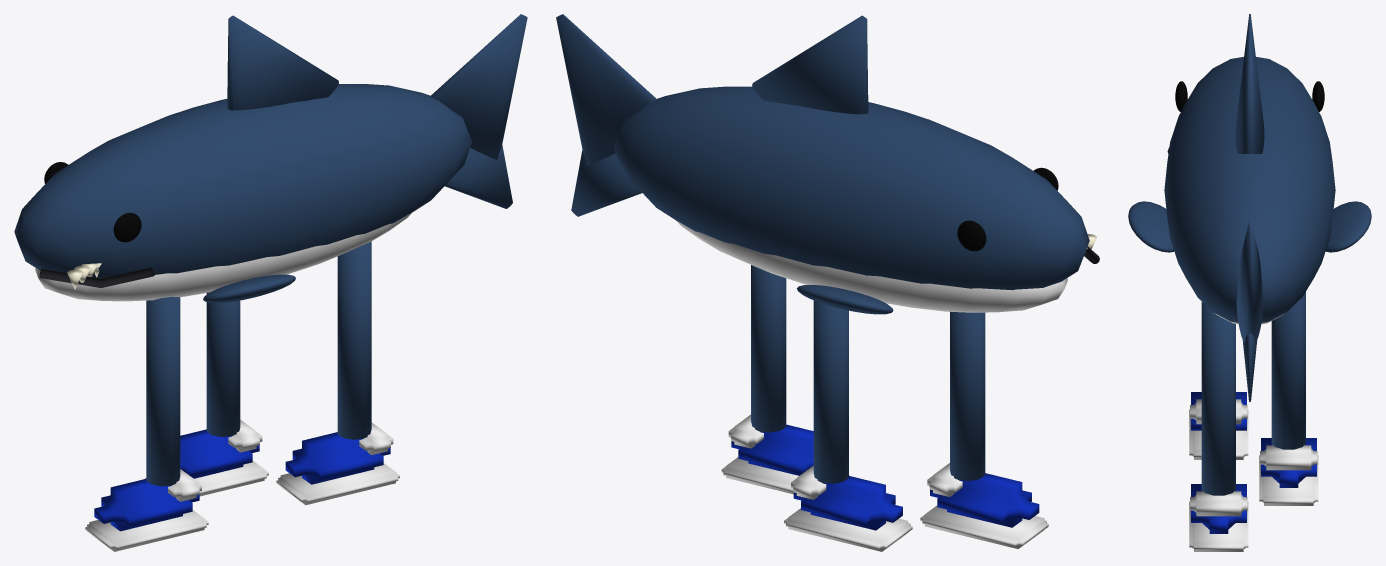
Rendered from SneakerShark.fbx.
3 views of the same model, side by side, from view 1: azimuth 30°, elevation 25°; view 2: azimuth 150°, elevation 25°; view 3: azimuth 270°, elevation 25° (orthographic). The views are drawn at different scales.
Parts seen in each view (by area): view 1: SneakerShark; view 2: SneakerShark; view 3: SneakerShark.
Part boxes in pixels (x1,y1,x2,y2): SneakerShark: [14, 14, 527, 551]; SneakerShark: [556, 14, 1099, 551]; SneakerShark: [1128, 14, 1371, 551].
Bounding box in the file's own units: 3.73 × 3.36 × 1.56.
1 material, 1 textured.
